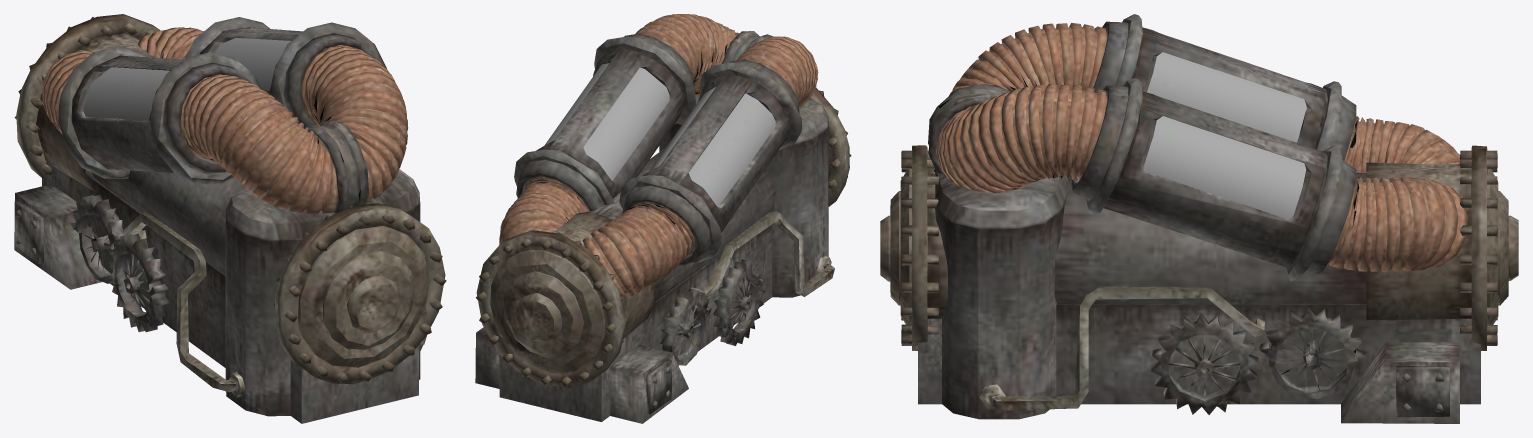
The model's file is pump.glb.
3 views of the same model, side by side, from view 1: azimuth 30°, elevation 25°; view 2: azimuth 150°, elevation 25°; view 3: azimuth 270°, elevation 25° (orthographic). The views are drawn at different scales.
Visible parts, largest first — view 1: body; view 2: body; view 3: body.
Part boxes in pixels (x1=…): body: x1=14, y1=14, x2=446, y2=423; body: x1=475, y1=14, x2=851, y2=423; body: x1=880, y1=14, x2=1518, y2=423.
Bounding box in the file's own units: 0.9355 × 1.12 × 2.02.
1 material, 1 textured.
